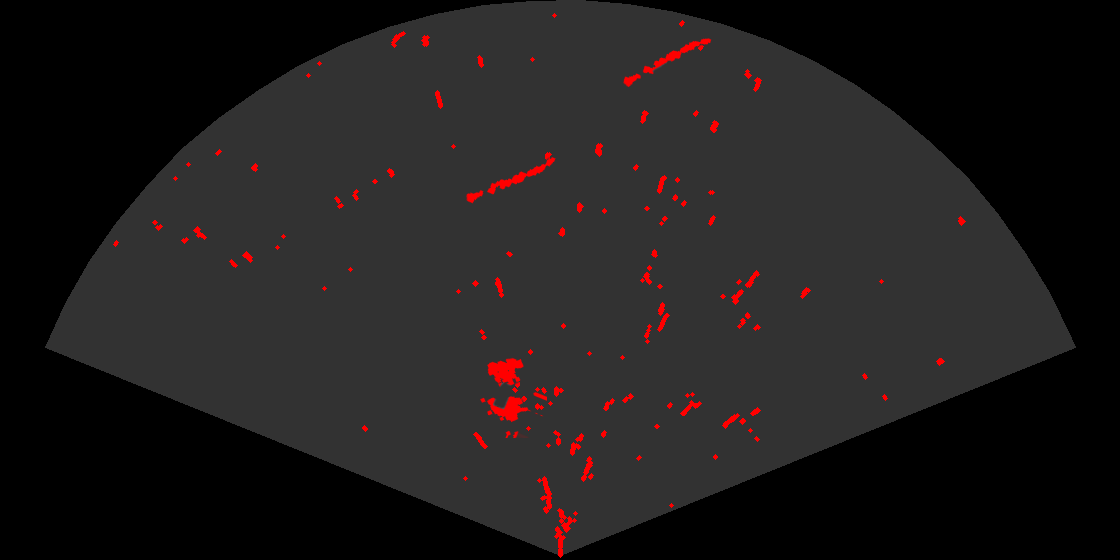cage: (479, 356, 547, 438)
chain: (622, 37, 713, 89), (464, 156, 557, 205)
